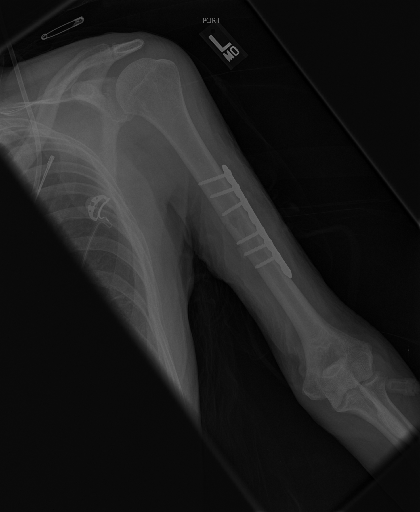implant: (194, 160, 296, 287), (81, 188, 119, 229)
